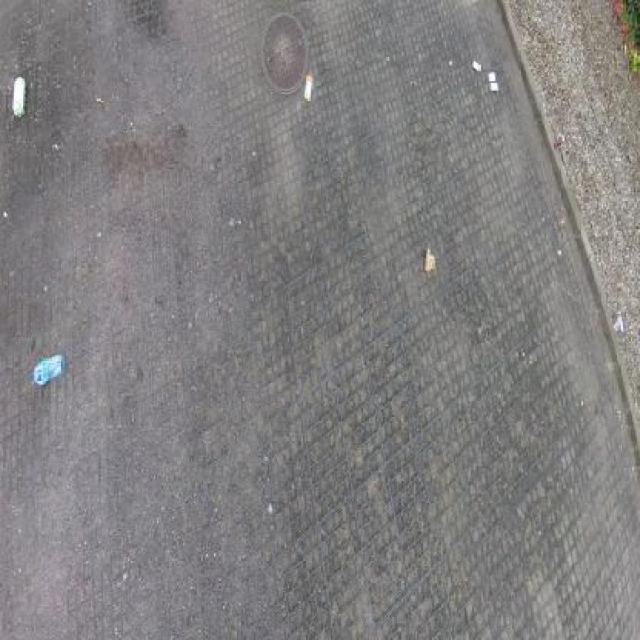Garbage: (32, 355, 65, 388), (12, 75, 27, 120), (303, 74, 314, 101), (424, 247, 435, 274), (554, 134, 564, 151), (614, 314, 624, 331), (472, 61, 481, 72), (490, 81, 498, 92), (487, 72, 496, 81)
